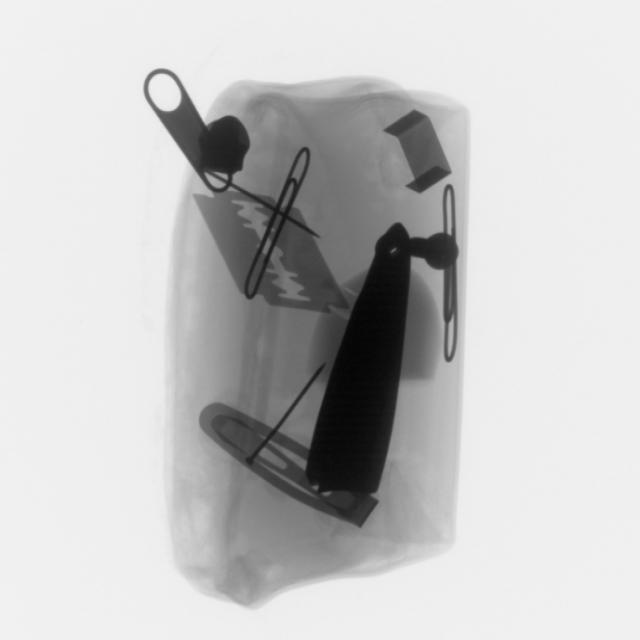BLADE: (244, 433, 344, 528)
